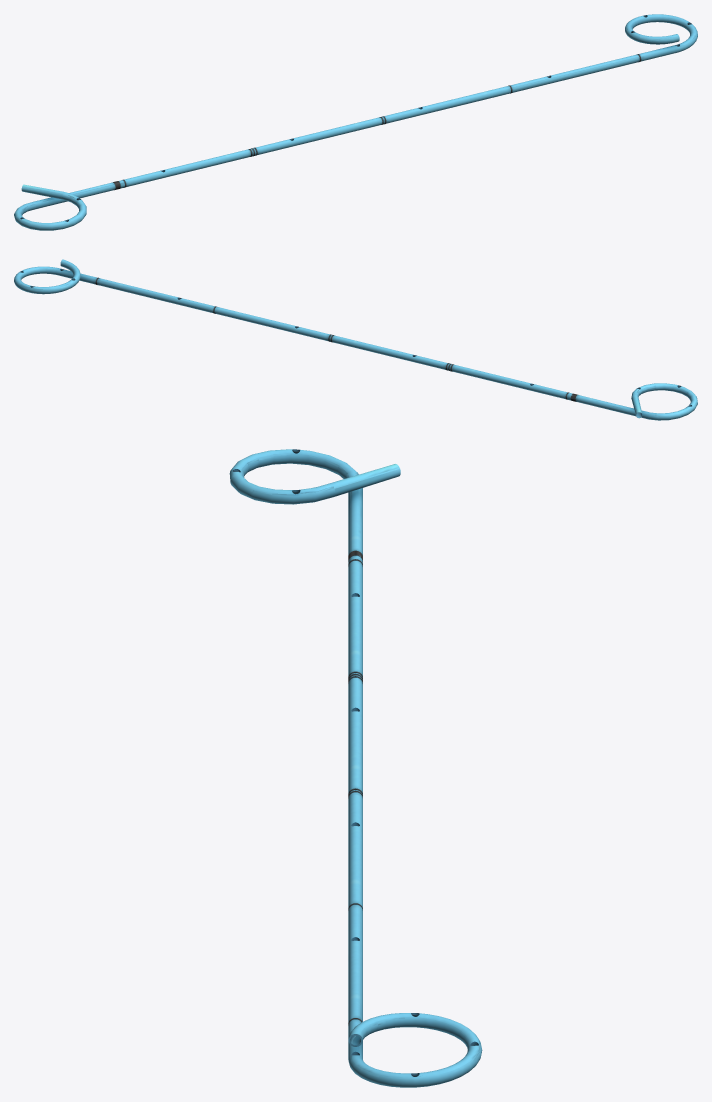
Rendered from DJ-Stent-Short-Term.glb.
The picture shows the model from 3 angles, top to bottom: view 1: azimuth 30°, elevation 25°; view 2: azimuth 150°, elevation 25°; view 3: azimuth 270°, elevation 25°; orthographic projection. The views are drawn at different scales.
Parts seen in each view (by area): view 1: DJ Stent - Short Term 001; view 2: DJ Stent - Short Term 001; view 3: DJ Stent - Short Term 001.
Part boxes in pixels (bbox=[...]): DJ Stent - Short Term 001: bbox=[14, 14, 697, 230]; DJ Stent - Short Term 001: bbox=[14, 259, 697, 420]; DJ Stent - Short Term 001: bbox=[229, 449, 482, 1087].
Size of the model in its own units: 0.2746 by 0.00669 by 0.0465.
Materials: 1 (1 with a texture image).
